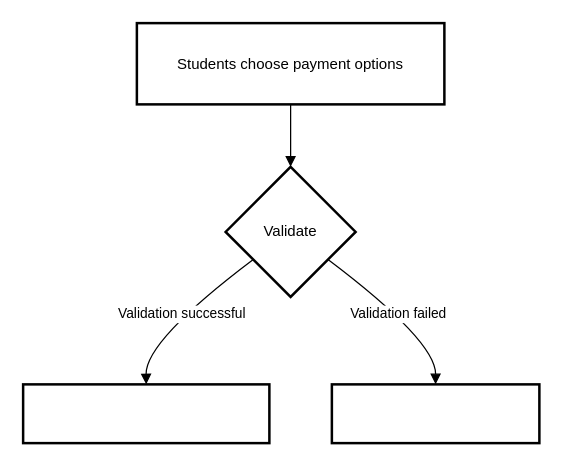
Image size: 561x465. Some labels were removed from this diagram. Each missing label, with the box of its shape:
Complete Payment: (21, 382, 270, 444)
Retry Payment: (330, 382, 540, 444)
